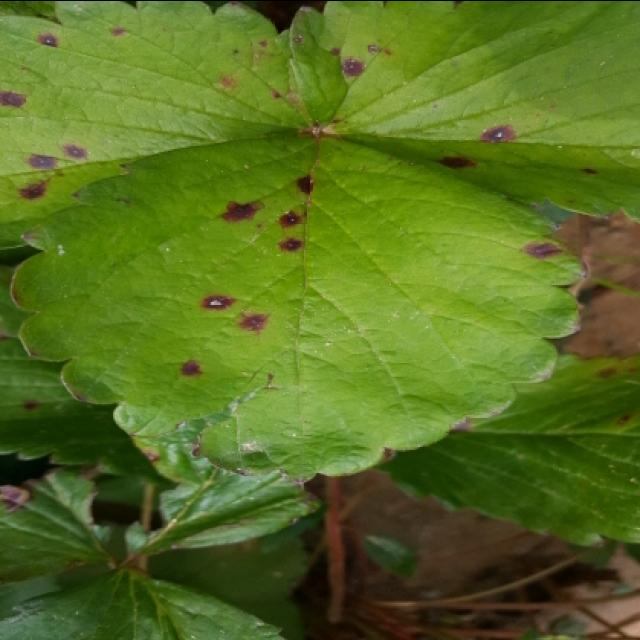Leaf Spot: (9, 133, 588, 480), (0, 2, 317, 249), (288, 2, 638, 221), (374, 352, 638, 550), (0, 244, 167, 485)
